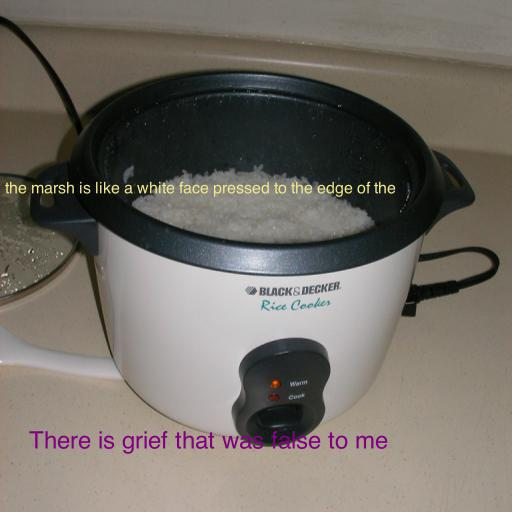Apple Chancery: (4, 181, 396, 197)
Big Caslon: (28, 431, 388, 454)
